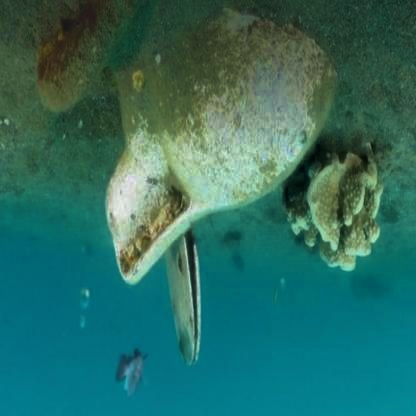misc: (105, 54, 314, 324)
